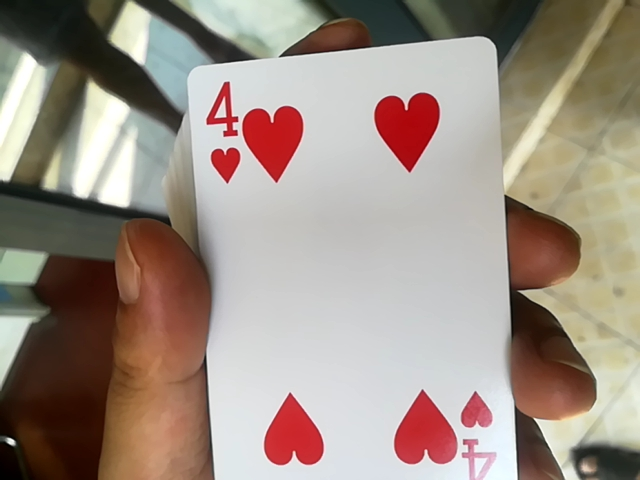hx 4: (171, 36, 504, 475)
